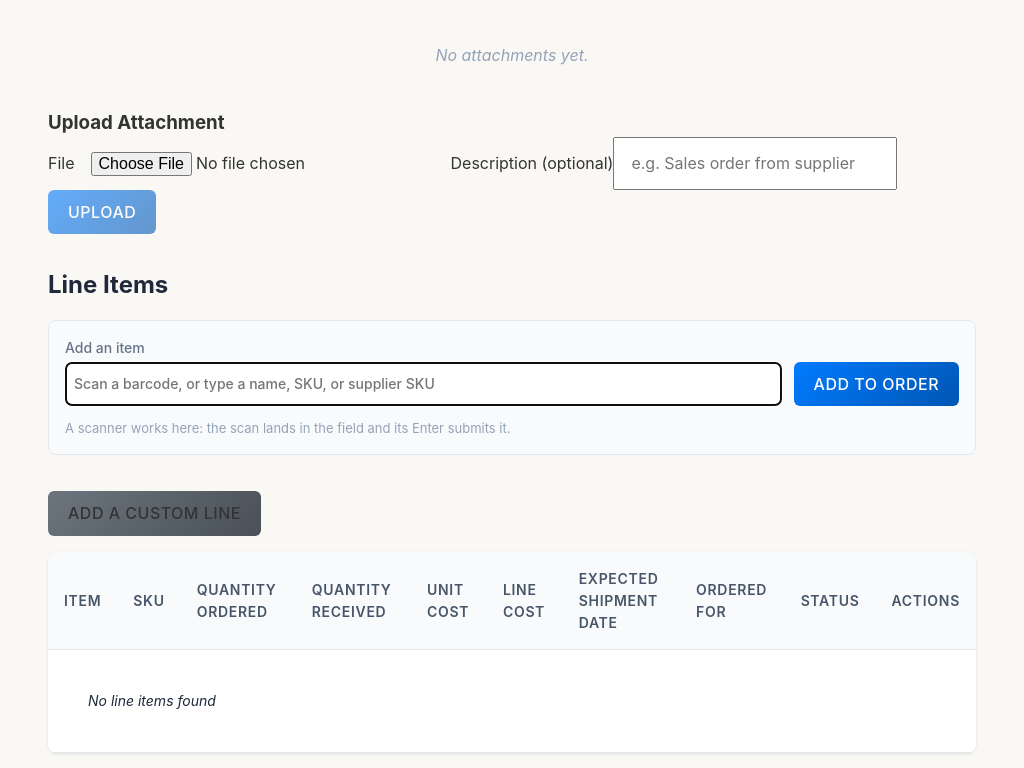
Scenario: PurchaseOrderPage — adding a line to a draft order › an unmatched identifier is reported rather than silently ignored
(page scrolled)
Type "wrench" into the field labelled "Add an item" at (423, 384), box [65,362,782,406]
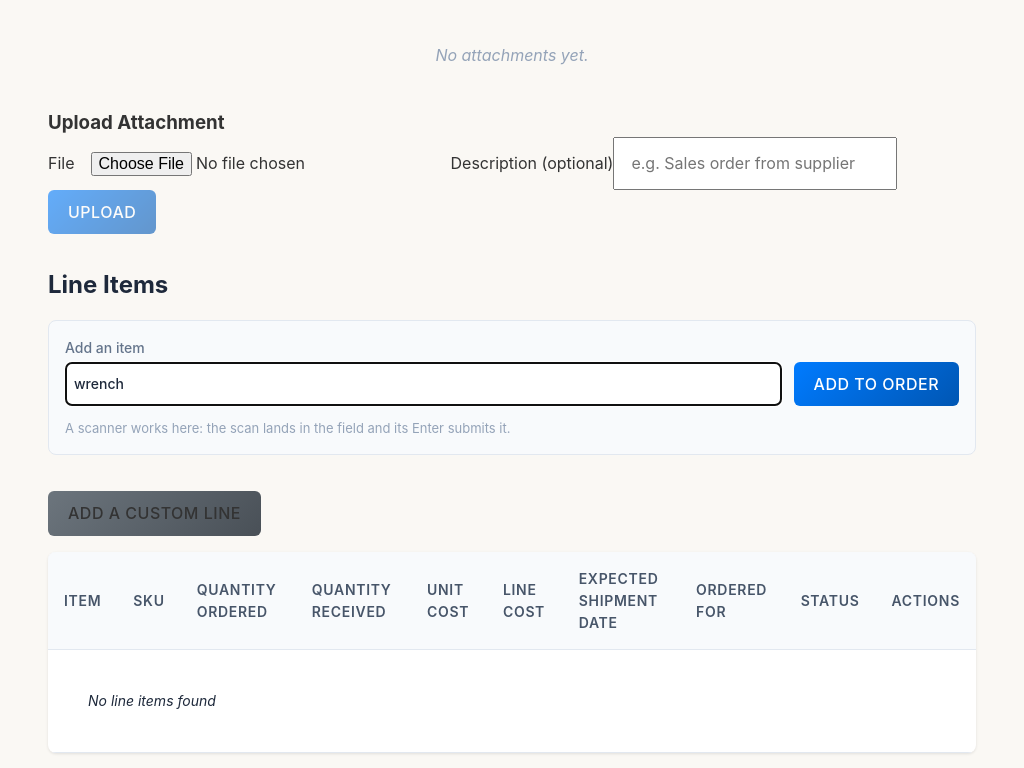
Submit the form labelled "Add an item", box [48,320,976,455]
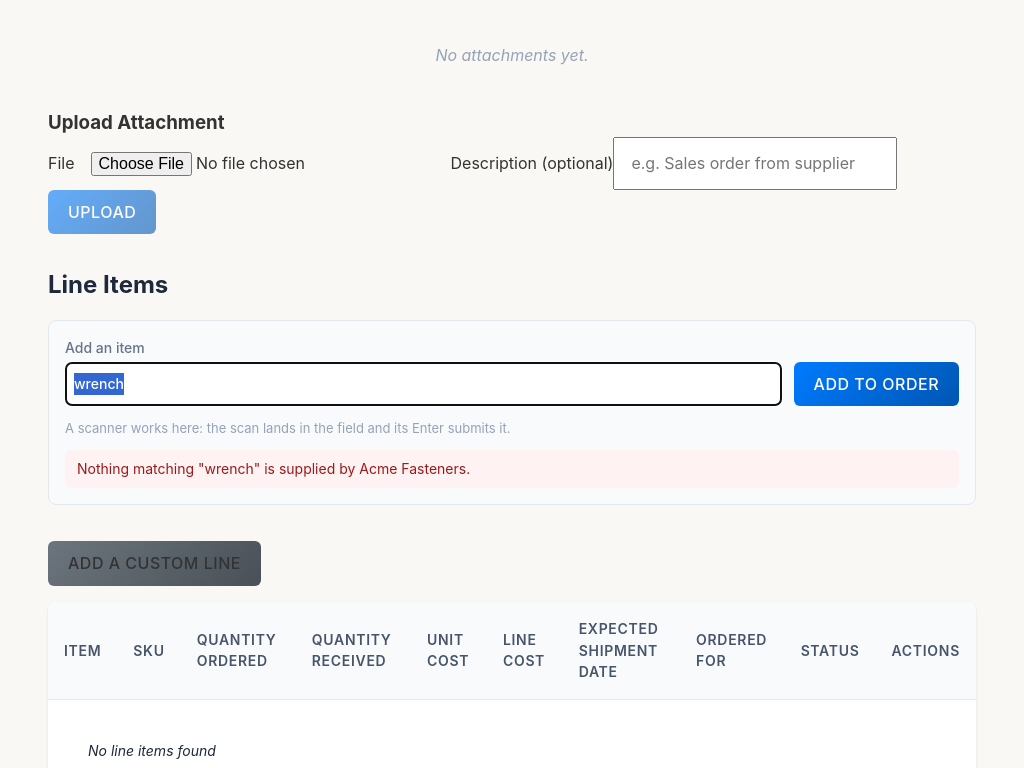
Check: the message reads "Nothing matching \"wrench\" is supplied by Acme Fasteners.", box [77,460,470,477]
